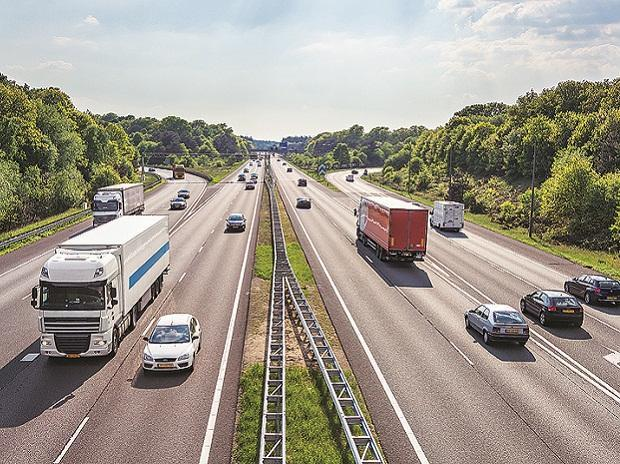car: (33, 214, 174, 362), (350, 187, 433, 271), (138, 312, 205, 379), (459, 297, 532, 358), (518, 282, 586, 336), (564, 265, 620, 314), (90, 183, 148, 229), (427, 194, 469, 236), (167, 189, 196, 212), (233, 169, 261, 192), (224, 212, 248, 236), (293, 190, 315, 216)
